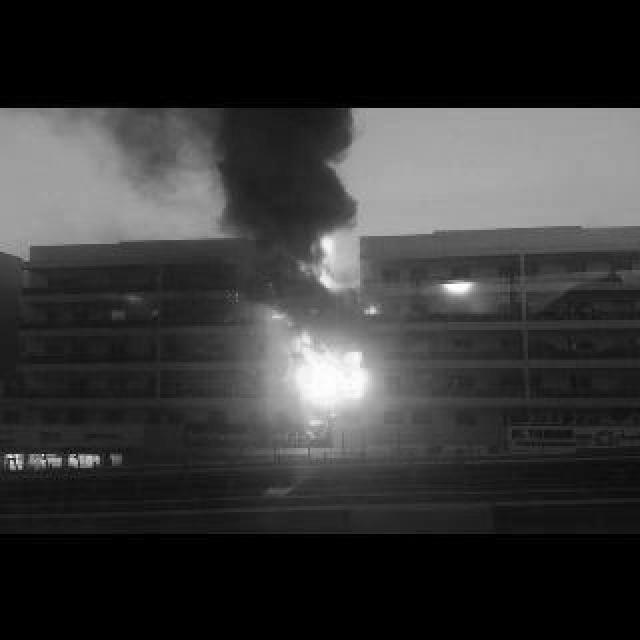fire: (282, 334, 370, 424), (310, 230, 334, 284), (364, 302, 382, 312), (274, 308, 284, 318)
smoke: (70, 106, 372, 228)
